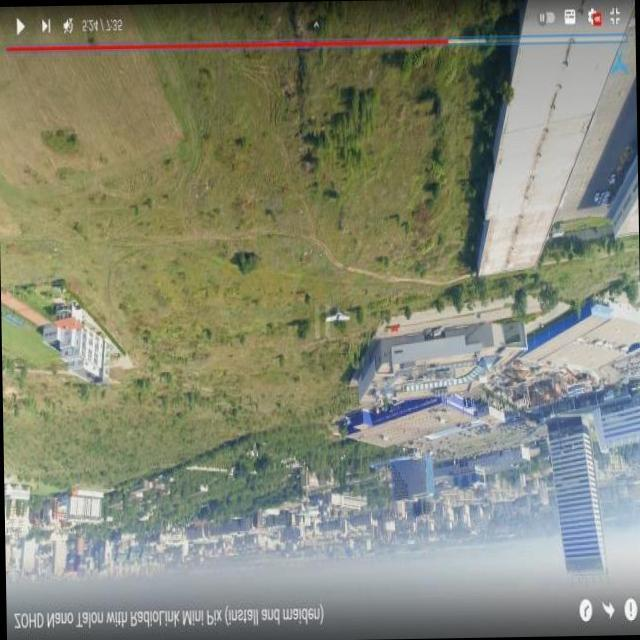iha: (318, 286, 362, 331)
